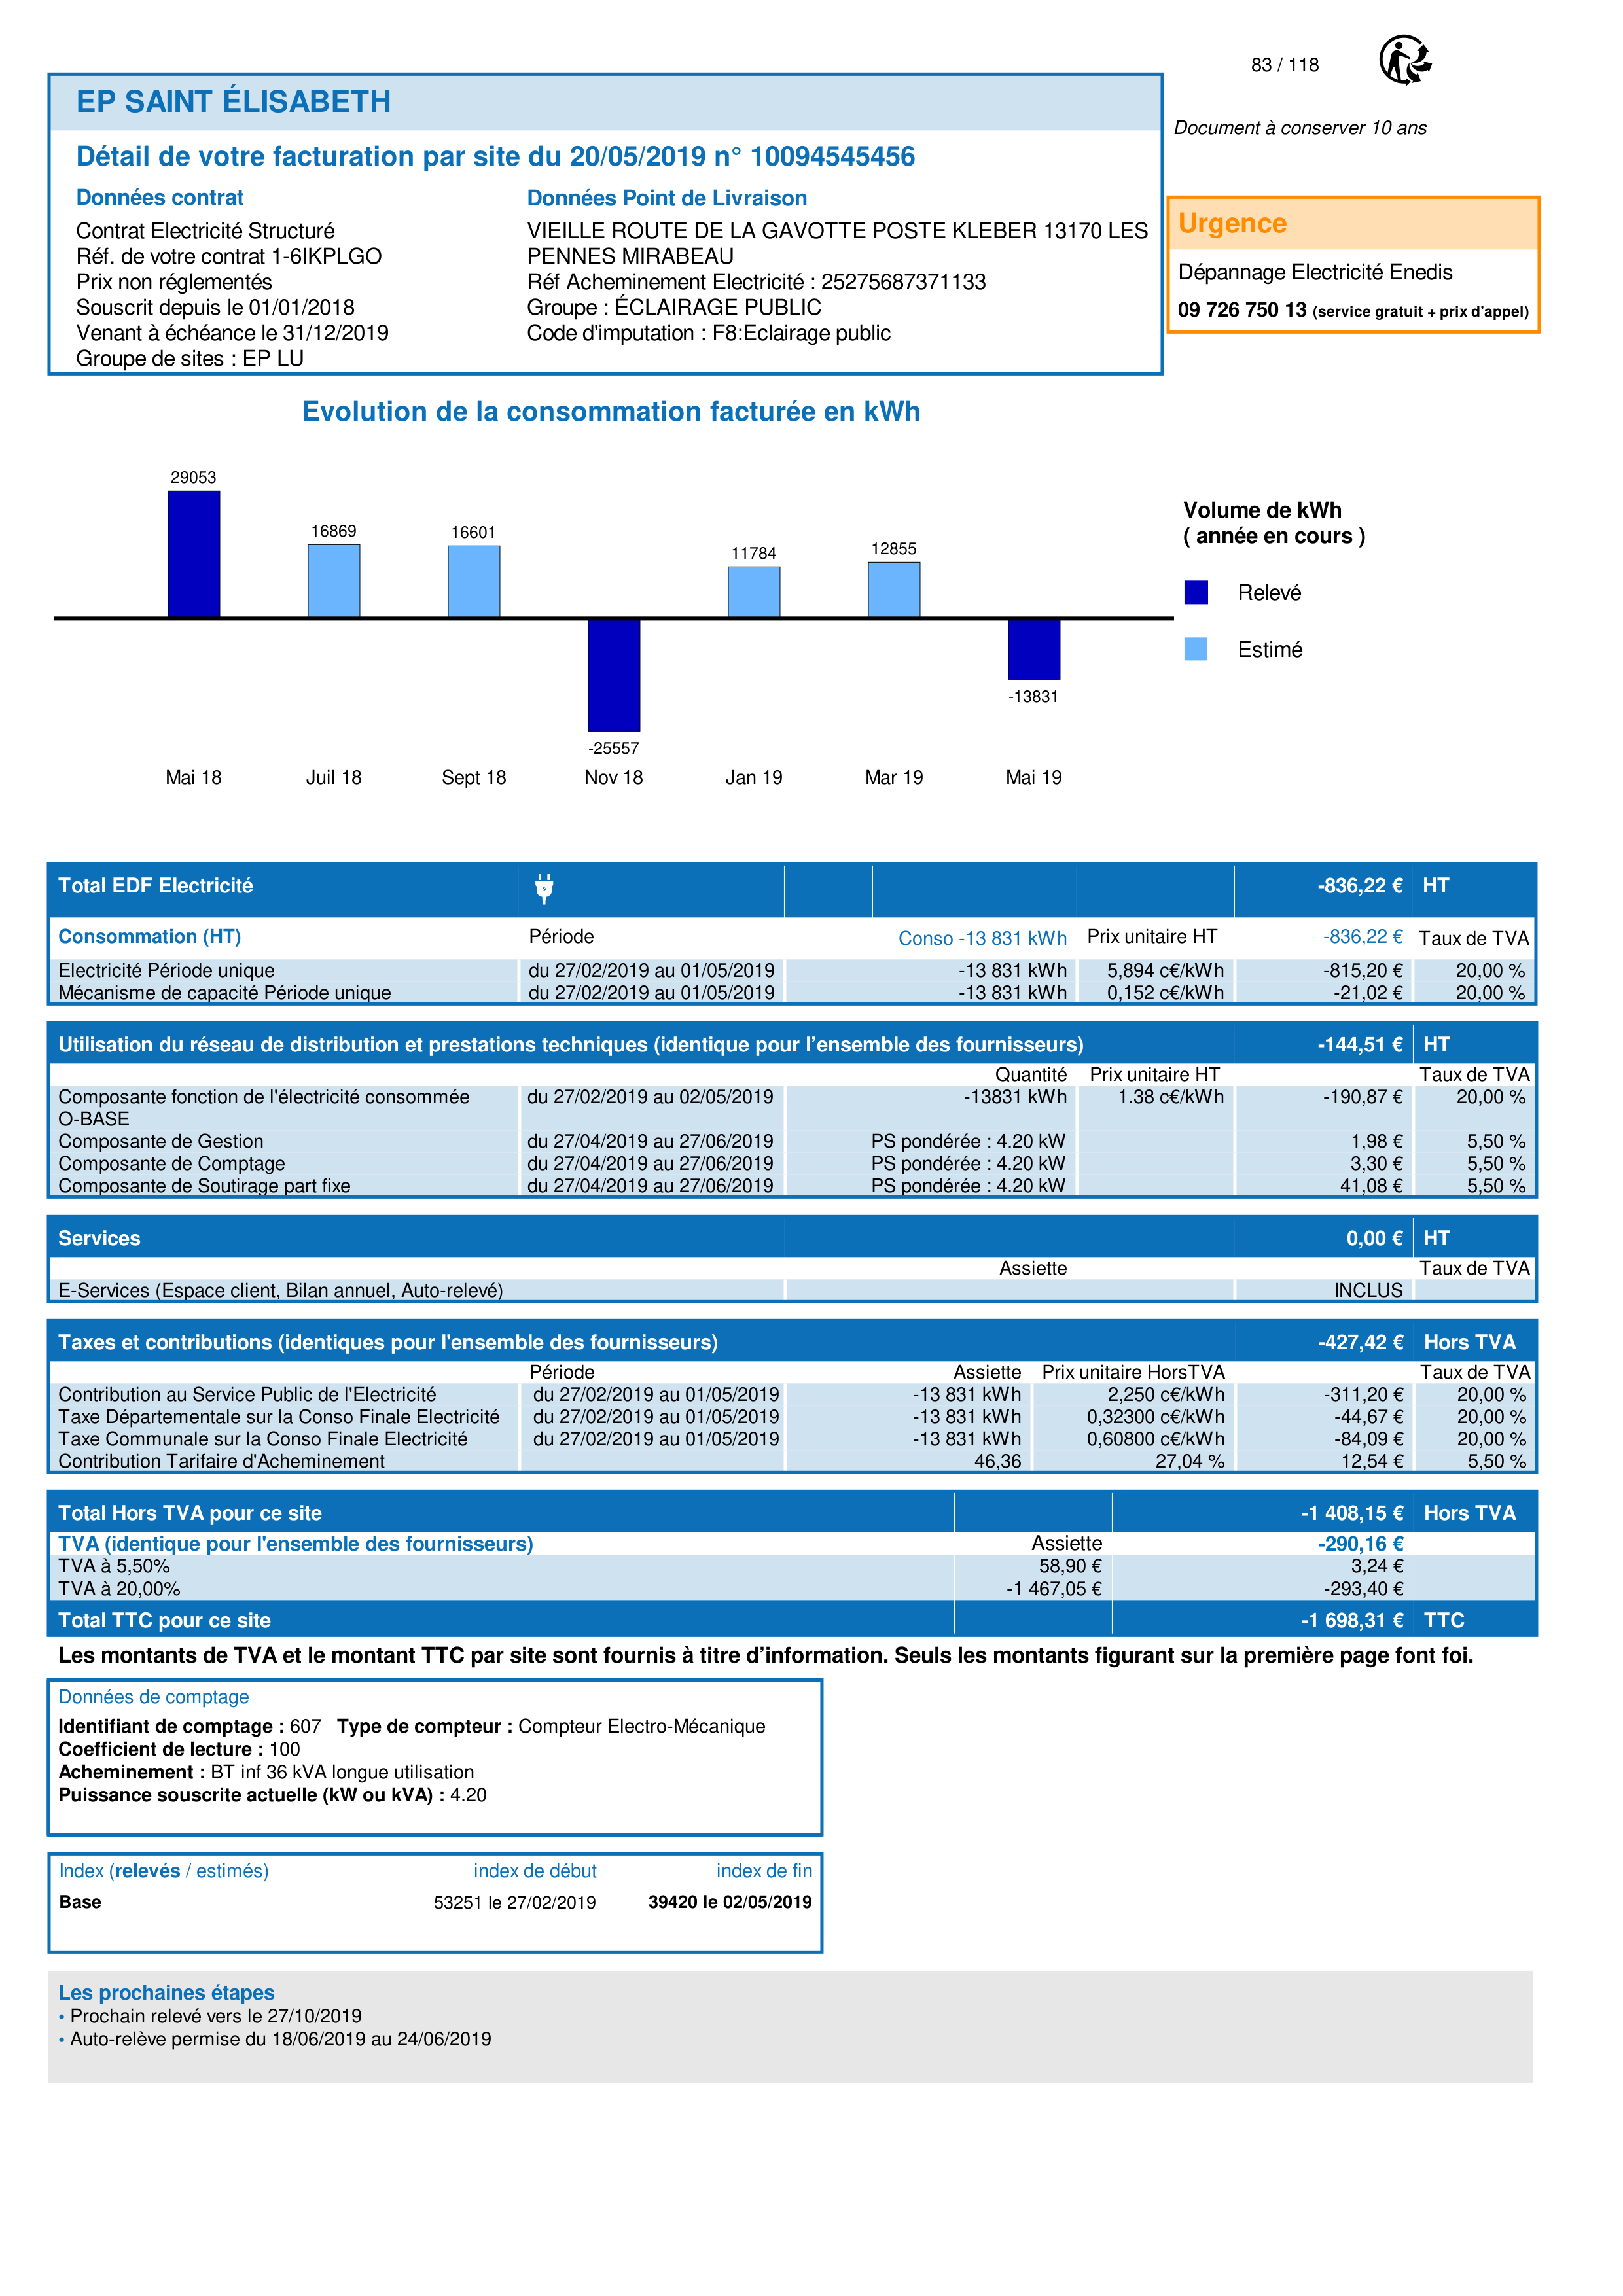area: (48, 1852, 822, 1952)
type_indicator: (48, 1856, 275, 1886)
